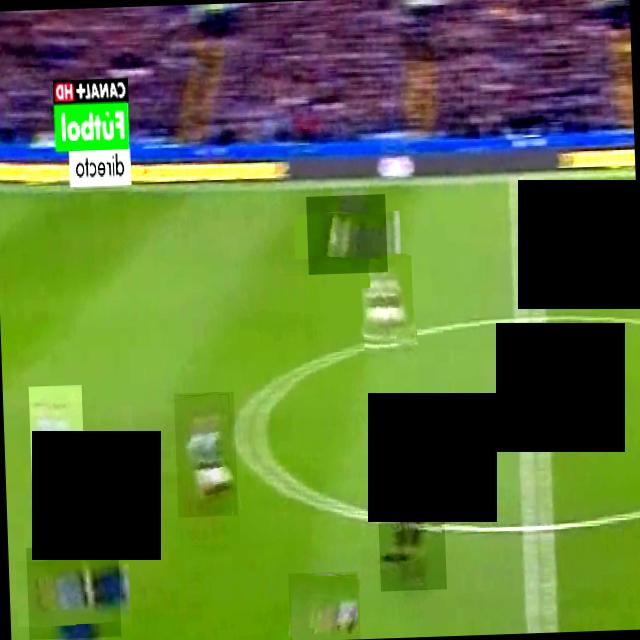referee: (376, 459, 446, 591)
soccer-player: (26, 544, 121, 640), (174, 392, 238, 518), (28, 384, 86, 514), (306, 193, 388, 274), (359, 254, 416, 354), (288, 571, 360, 640)
